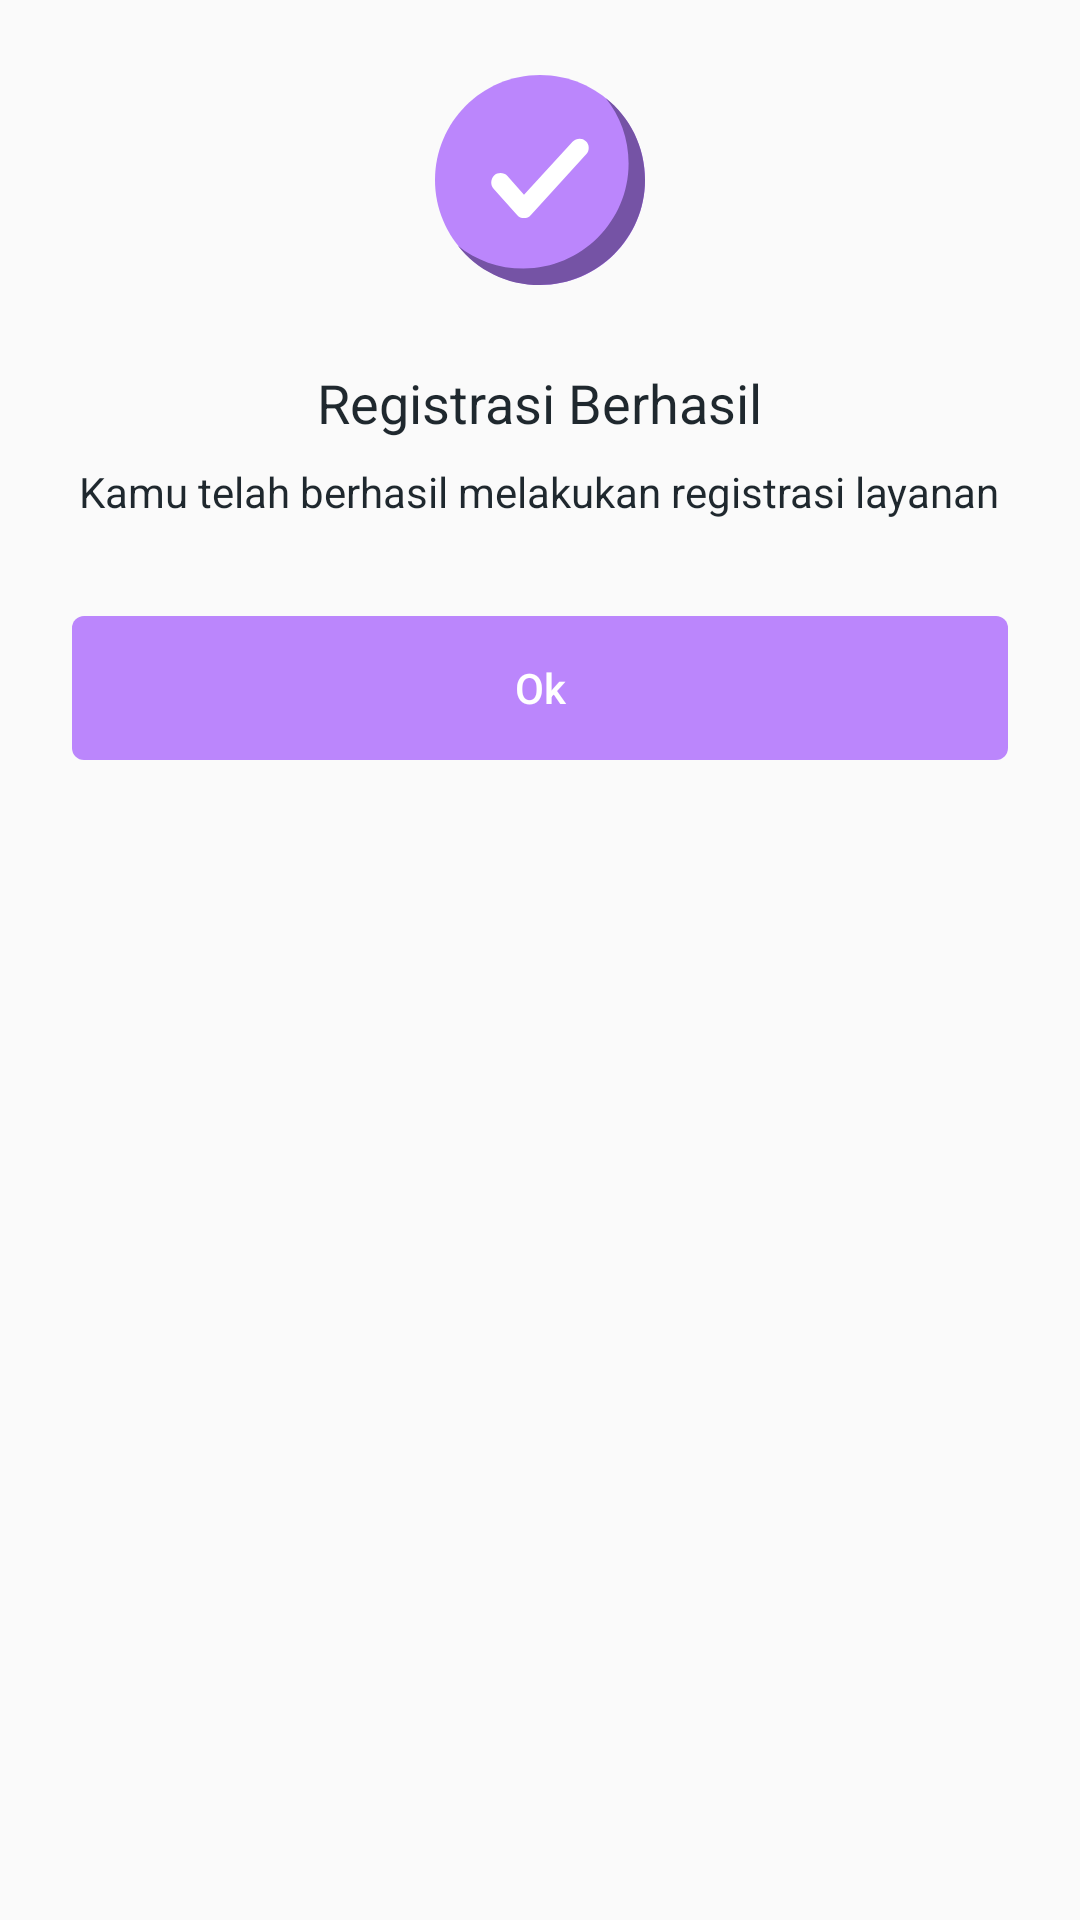

Icons on this 1080 × 1920 Android screen, each with its box as {"x1": x1, "y1": y1, "x2": x2, "y2": y2}:
success: {"x1": 435, "y1": 75, "x2": 645, "y2": 285}
